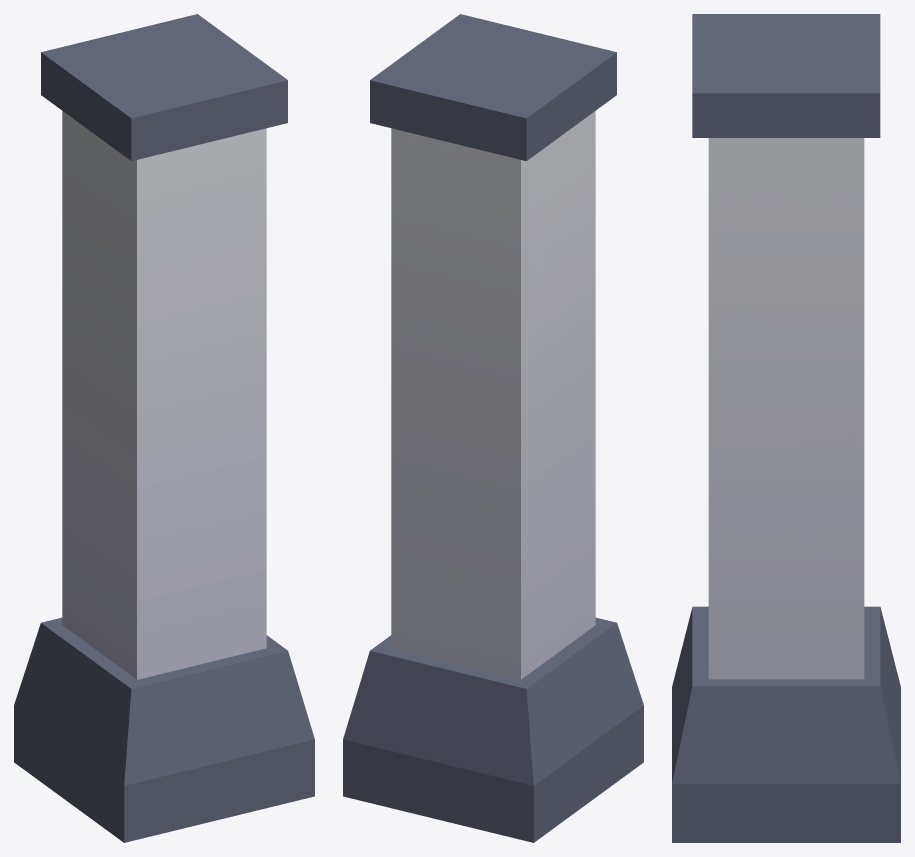
Rendered from bridge-pillar-wide.glb.
3 renders of one model, left to right at view 1: azimuth 30°, elevation 25°; view 2: azimuth 150°, elevation 25°; view 3: azimuth 270°, elevation 25°, orthographic. The views are drawn at different scales.
Parts seen in each view (by area): view 1: bridge-pillar-wide; view 2: bridge-pillar-wide; view 3: bridge-pillar-wide.
Part boxes in pixels (<box>): bridge-pillar-wide: <box>14,14,314,842</box>; bridge-pillar-wide: <box>343,14,643,842</box>; bridge-pillar-wide: <box>672,14,900,842</box>.
Size of the model in its own units: 0.14 by 0.5 by 0.14.
Materials: 1 (1 with a texture image).
